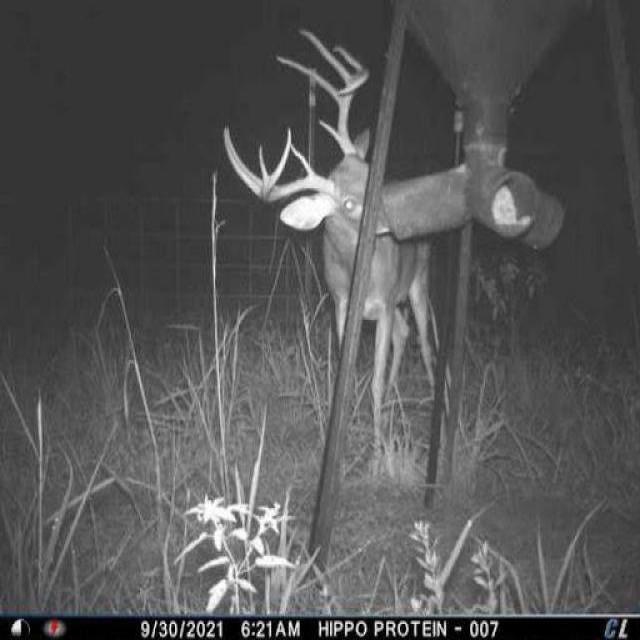deer: (217, 19, 452, 462)
